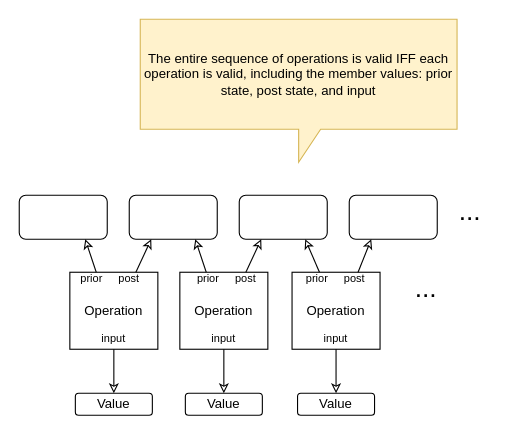
Some shapes in this 523 by 435 pixel diagram are drawn without their labels. Each missing label, with the centre of its shape:
"State 0" belongs at (x=62, y=216).
"State 1" belongs at (x=172, y=216).
"State 2" belongs at (x=282, y=216).
"State 3" belongs at (x=392, y=216).
